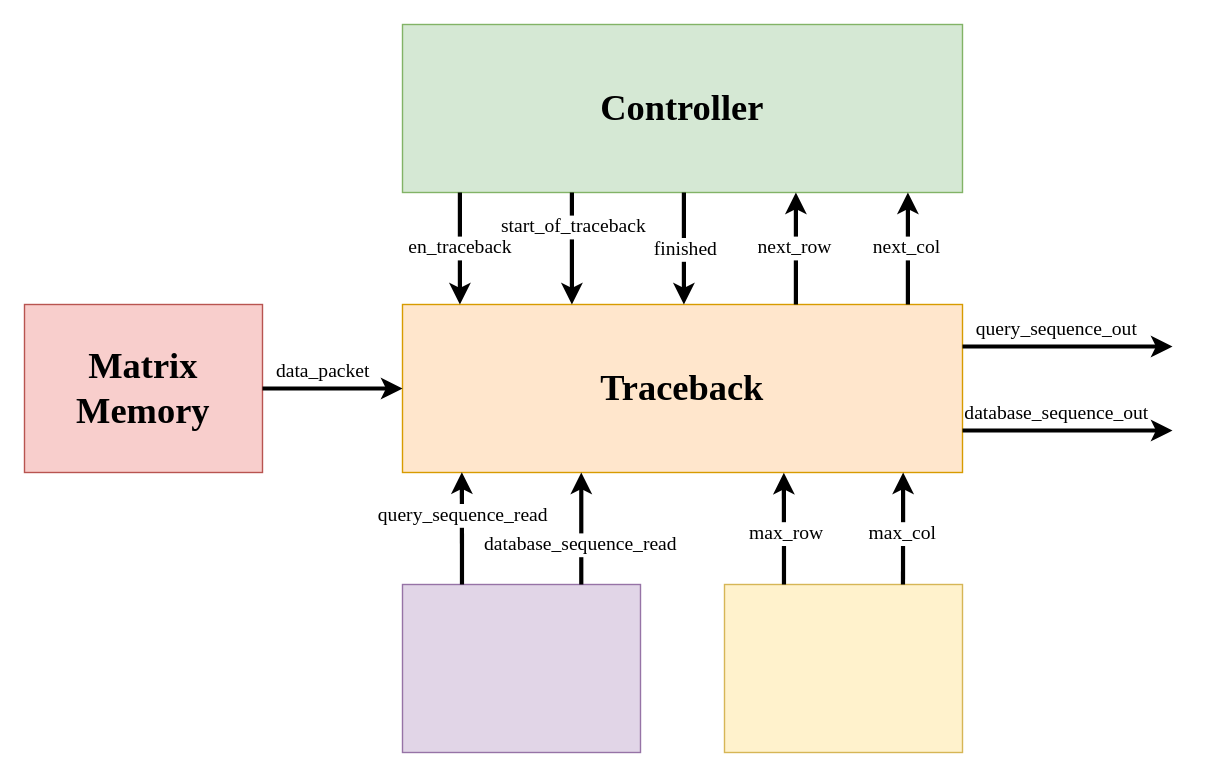
The diagram is 1210 pixels wide and 777 high, and some of its shapes have lost their labels. The box of each missing label's shape, as (x1, y1, x2, y2) in pixels:
Max Registers: (723, 583, 962, 752)
Sequences Buffer: (401, 583, 640, 752)
